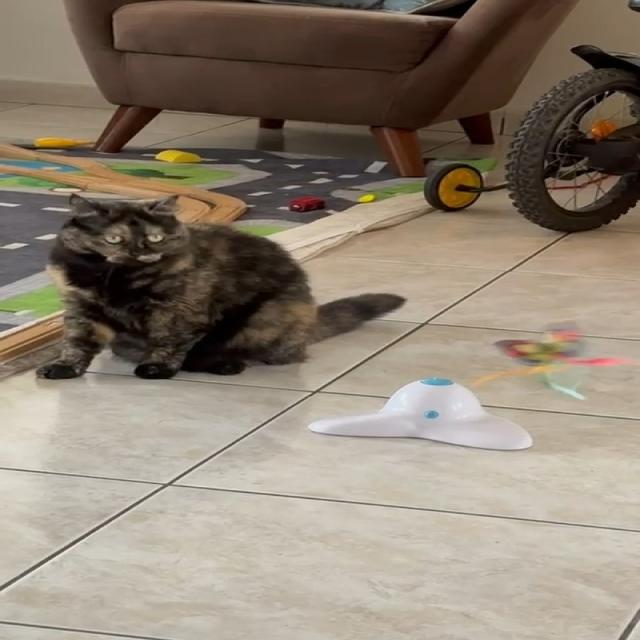authorized: (34, 194, 407, 380)
